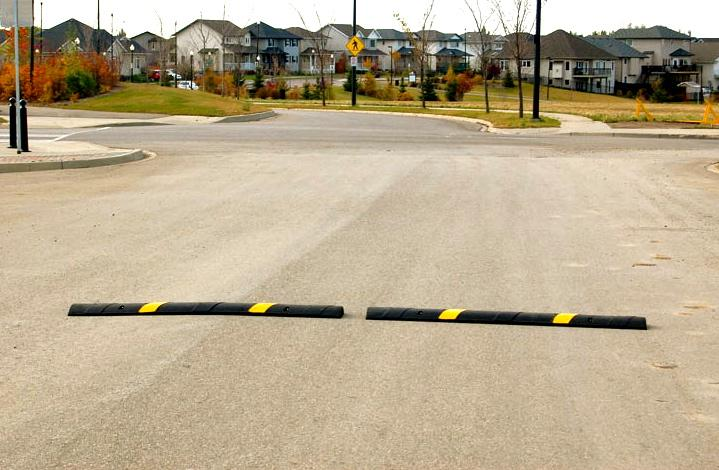Bump: (61, 300, 682, 346)
